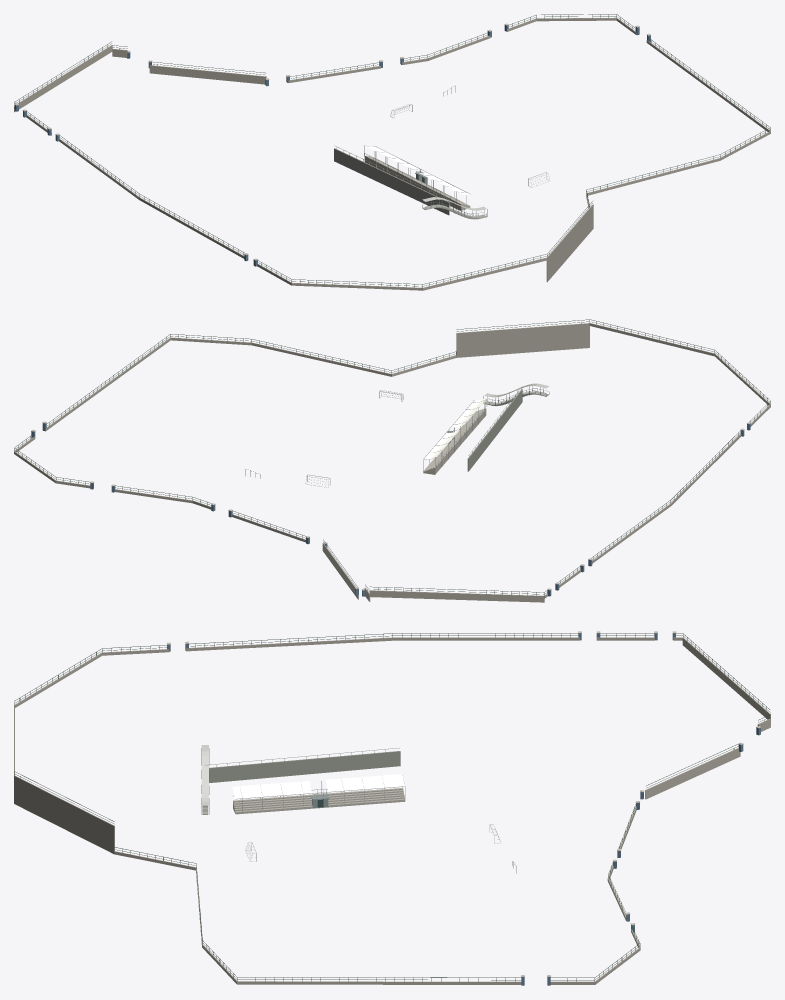
3 renders of one model, top to bottom at view 1: azimuth 30°, elevation 25°; view 2: azimuth 150°, elevation 25°; view 3: azimuth 270°, elevation 25°, orthographic. The views are drawn at different scales.
Parts seen in each view (by area): view 1: site-wall-concrete, site-fence, site-terrace-retaining, site-stand-concrete, site-stand-canopy-frame; view 2: site-wall-concrete, site-fence, site-stand-concrete, site-terrace-retaining, site-stand-canopy; view 3: site-wall-concrete, site-fence, site-terrace-retaining, site-stand-concrete, site-stand-canopy.
Boxes of the visible parts, x1,y1,x2,y2 form: site-wall-concrete: (14,17,770,290); site-fence: (14,14,770,287); site-terrace-retaining: (334,148,449,215); site-stand-concrete: (365,155,470,210); site-stand-canopy-frame: (364,145,470,207); site-wall-concrete: (14,323,770,602); site-fence: (14,319,770,595); site-stand-concrete: (423,408,486,474); site-terrace-retaining: (467,389,522,471); site-stand-canopy: (423,397,487,459); site-wall-concrete: (14,637,770,984); site-fence: (14,633,770,981); site-terrace-retaining: (209,751,400,782); site-stand-concrete: (233,788,405,814); site-stand-canopy: (232,774,404,798).
Size of the model in its own units: 203 by 10.55 by 202.
